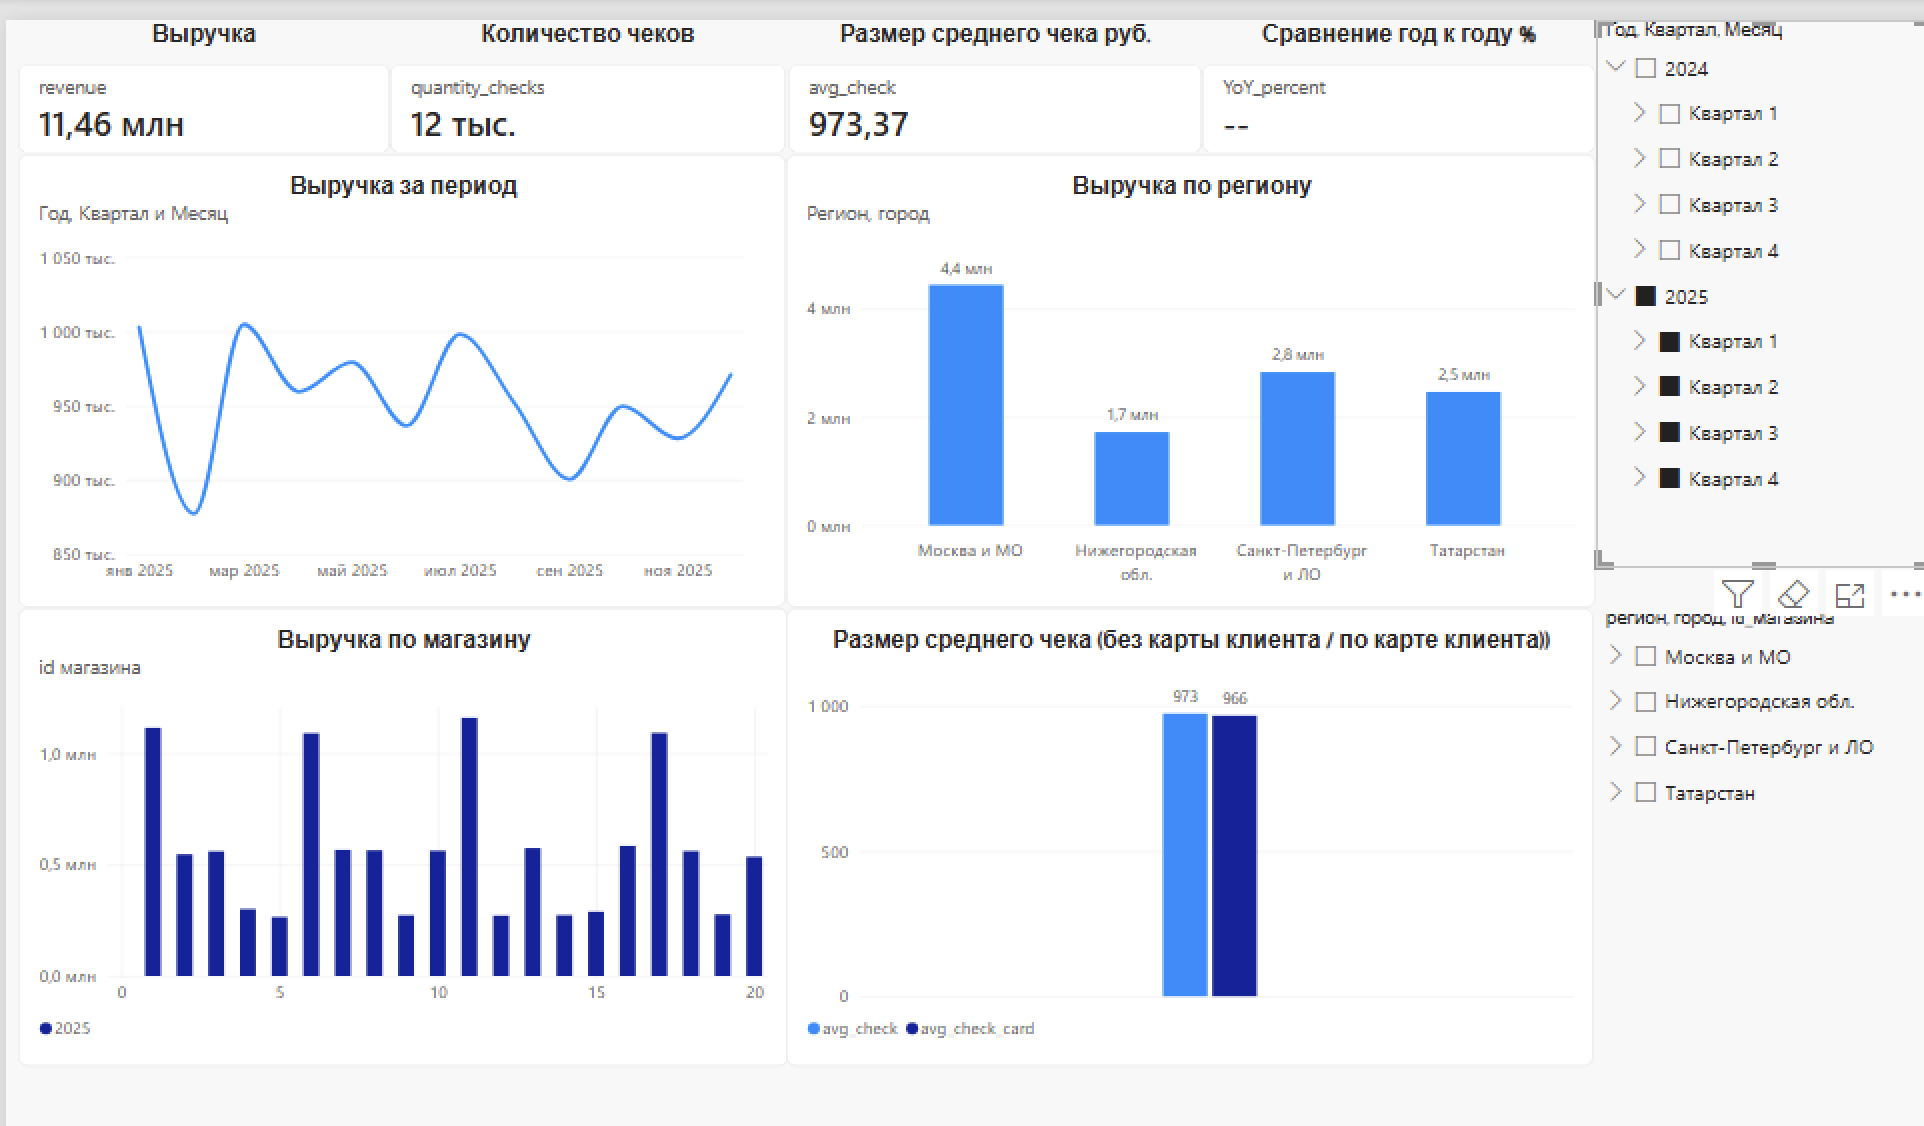

This screenshot's page, from the dashboard's own definition file:
{"tool":"powerbi","page":{"name":"Sales Sosedushka","canvas":[1920,1080],"ordinal":0},"visuals":[{"type":"cardVisual","title":"Выручка","fields":{"Data":["fact_sales.revenue"]},"box":[10,0,310,111.7],"z":0},{"type":"cardVisual","title":"Количество чеков","fields":{"Data":["fact_sales.quantity_checks"]},"box":[320,0,330,111.7],"z":1},{"type":"cardVisual","title":"Размер среднего чека руб.","fields":{"Data":["fact_sales.avg_check"]},"box":[651.7,0,345,111.7],"z":2},{"type":"cardVisual","title":"Сравнение год к году %","fields":{"Data":["fact_sales.YoY_percent"]},"box":[996.7,0,328.3,111.7],"z":3},{"type":"lineChart","title":"Выручка за период","fields":{"Category":["fact_sales.дата_время.Изменение.Иерархия дат.Год","fact_sales.дата_время.Изменение.Иерархия дат.Квартал","fact_sales.дата_время.Изменение.Иерархия дат.Месяц"],"Y":["fact_sales.revenue"]},"box":[10,111.7,640,378.3],"z":4},{"type":"clusteredColumnChart","title":"Выручка по магазину","fields":{"Category":["fact_sales.id_магазина"],"Series":["fact_sales.дата_время.Изменение.Иерархия дат.Год"],"Y":["fact_sales.revenue"]},"box":[10,490,641.7,381.7],"z":5},{"type":"clusteredColumnChart","title":"Размер среднего чека (без карты клиента / по карте клиента))","fields":{"Y":["fact_sales.avg_check","fact_sales.avg_check_card"]},"box":[650,490,673.3,381.7],"z":6},{"type":"clusteredColumnChart","title":"Выручка по региону","fields":{"Category":["dim_stores.регион","dim_stores.город"],"Y":["fact_sales.revenue"]},"box":[650,111.7,675,378.3],"z":7},{"type":"slicer","fields":{"Values":["dim_stores.регион","dim_stores.город","dim_stores.id_магазина"]},"box":[1325,490,280,381.7],"z":8},{"type":"slicer","fields":{"Values":["fact_sales.дата_время.Изменение.Иерархия дат.Год","fact_sales.дата_время.Изменение.Иерархия дат.Квартал","fact_sales.дата_время.Изменение.Иерархия дат.Месяц"]},"box":[1325,0,280,456.7],"z":9}]}

Visuals, with their boxes on the page's 1920x1080 design canvas (x1, y1, x2, y2). These are canvas units, not pixel positions in the 1924x1126 screenshot, which may show the page scaled, cropped or inside an application window:
"Выручка" cardVisual: [x1=10, y1=0, x2=320, y2=112]
"Количество чеков" cardVisual: [x1=320, y1=0, x2=650, y2=112]
"Размер среднего чека руб." cardVisual: [x1=652, y1=0, x2=997, y2=112]
"Сравнение год к году %" cardVisual: [x1=997, y1=0, x2=1325, y2=112]
"Выручка за период" lineChart: [x1=10, y1=112, x2=650, y2=490]
"Выручка по магазину" clusteredColumnChart: [x1=10, y1=490, x2=652, y2=872]
"Размер среднего чека (без карты клиента / по карте клиента))" clusteredColumnChart: [x1=650, y1=490, x2=1323, y2=872]
"Выручка по региону" clusteredColumnChart: [x1=650, y1=112, x2=1325, y2=490]
slicer - dim_stores.регион x dim_stores.город: [x1=1325, y1=490, x2=1605, y2=872]
slicer - fact_sales.дата_время.Изменение.Иерархия дат.Год x fact_sales.дата_время.Изменение.Иерархия дат.Квартал: [x1=1325, y1=0, x2=1605, y2=457]
